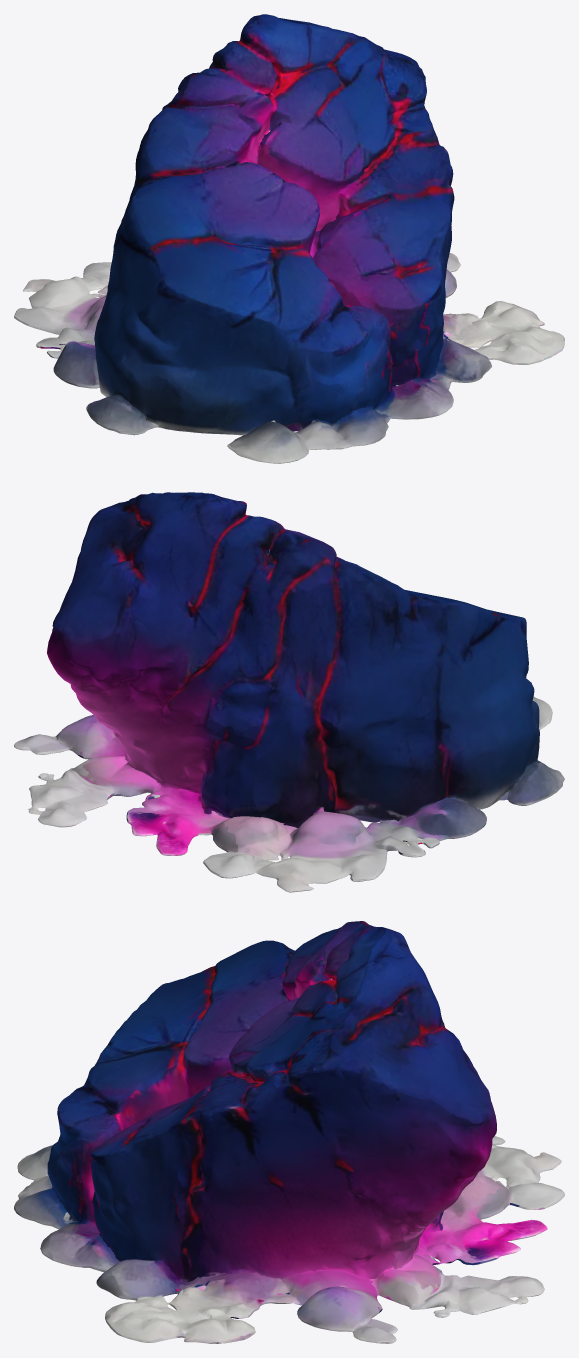
Rendered from shore-stone-9-generated-2026-05-17T20-16-34-309Z.medium.glb.
3 views of the same model, one above another, from view 1: azimuth 30°, elevation 25°; view 2: azimuth 150°, elevation 25°; view 3: azimuth 270°, elevation 25° (orthographic). The views are drawn at different scales.
Visible parts, largest first — view 1: temp_mesh.ply; view 2: temp_mesh.ply; view 3: temp_mesh.ply.
Part boxes in pixels (box(x1,y1,x2,y2)): temp_mesh.ply: box(14, 14, 564, 463); temp_mesh.ply: box(14, 492, 564, 892); temp_mesh.ply: box(14, 921, 564, 1343).
Size of the model in its own units: 1.97 by 1.24 by 1.97.
Materials: 1 (1 with a texture image).
